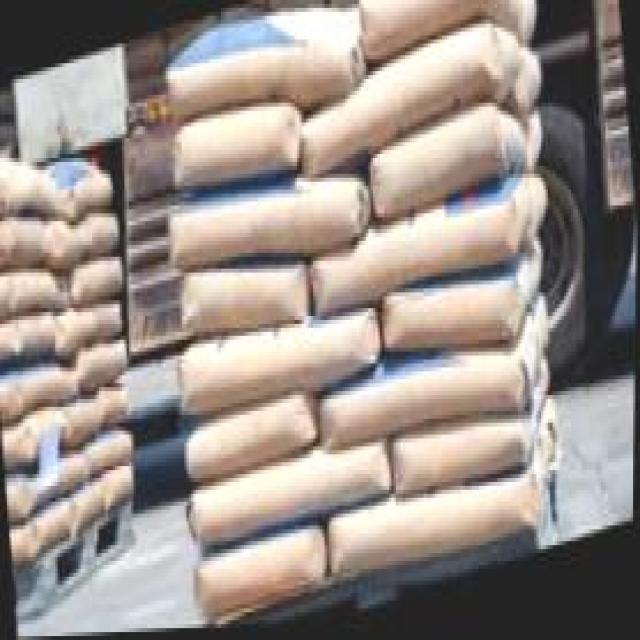gunny_bag: (319, 304, 554, 453), (305, 26, 524, 182), (310, 177, 544, 317), (167, 10, 367, 127), (327, 477, 544, 579), (187, 440, 390, 548), (178, 308, 381, 415), (170, 176, 371, 267), (371, 109, 529, 220), (383, 241, 542, 351), (197, 522, 327, 621), (188, 391, 318, 483), (393, 419, 536, 499), (173, 104, 301, 186), (357, 0, 534, 56), (183, 263, 310, 340), (0, 361, 76, 423), (10, 495, 74, 567), (0, 162, 78, 218), (2, 408, 75, 467), (46, 154, 112, 211), (0, 310, 56, 371), (68, 255, 125, 308), (0, 268, 59, 316), (0, 218, 54, 268), (74, 341, 127, 390), (39, 450, 90, 500), (88, 425, 132, 478), (71, 479, 108, 536), (57, 305, 96, 358), (78, 210, 118, 256), (105, 461, 135, 507), (96, 301, 121, 339)
